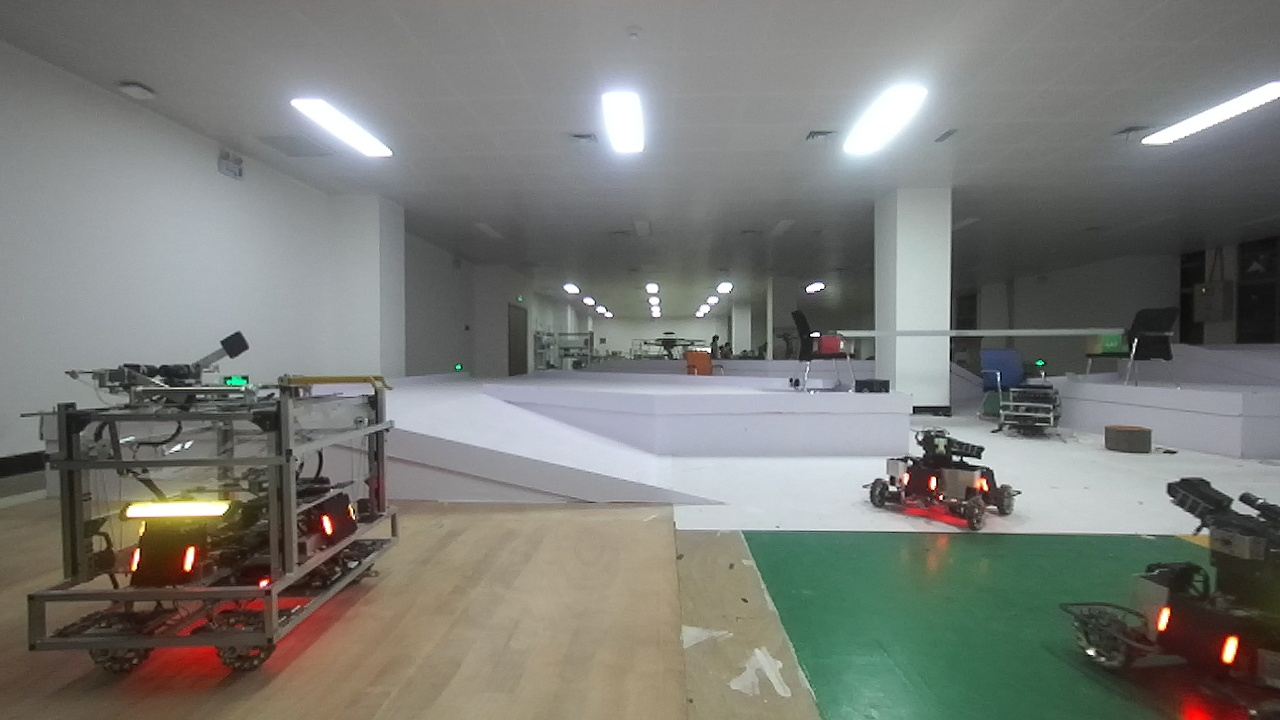car: (8, 363, 417, 678), (1084, 458, 1280, 720), (871, 421, 1044, 534)
